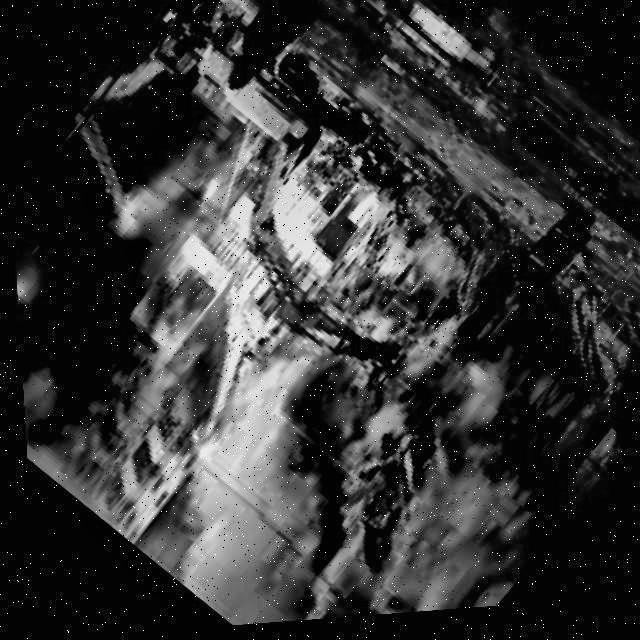Smoke: (74, 193, 636, 636)
